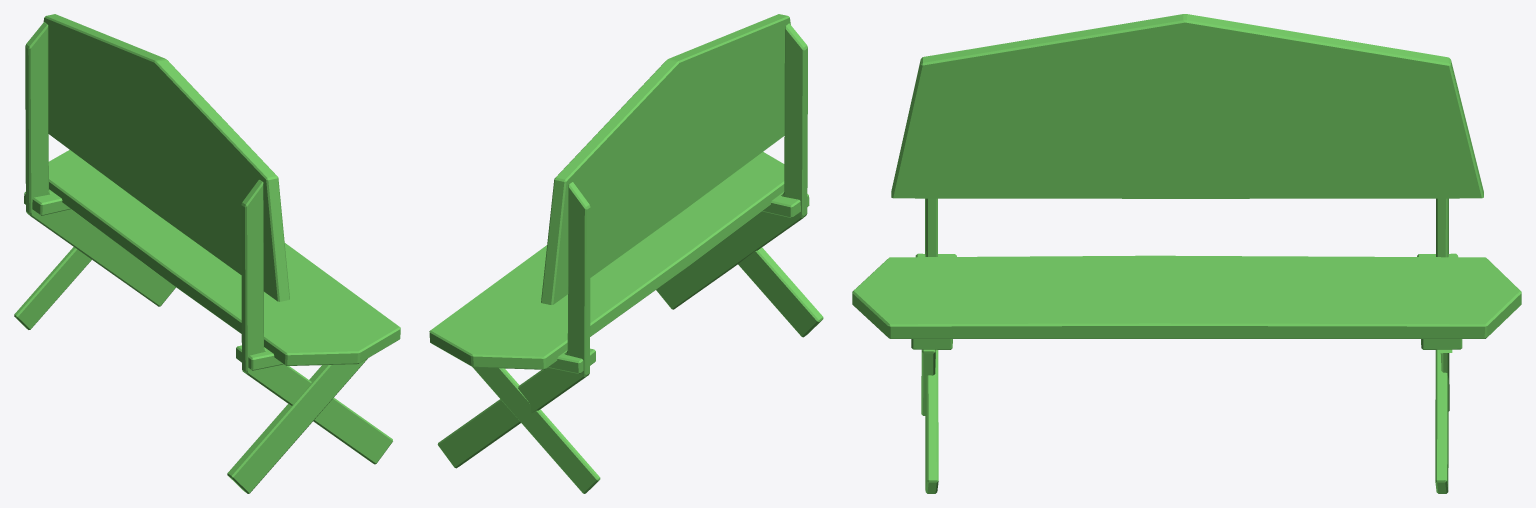
Rendered from bench02.fbx.
3 renders of one model, left to right at view 1: azimuth 30°, elevation 25°; view 2: azimuth 150°, elevation 25°; view 3: azimuth 270°, elevation 25°, orthographic. The views are drawn at different scales.
Visible parts, largest first — view 1: Cube.002; view 2: Cube.002; view 3: Cube.002.
Part boxes in pixels (x1,y1,x2,y2): Cube.002: (14,14,400,493); Cube.002: (429,14,823,493); Cube.002: (852,14,1521,493).
Size of the model in its own units: 44.43 by 91.02 by 133.
